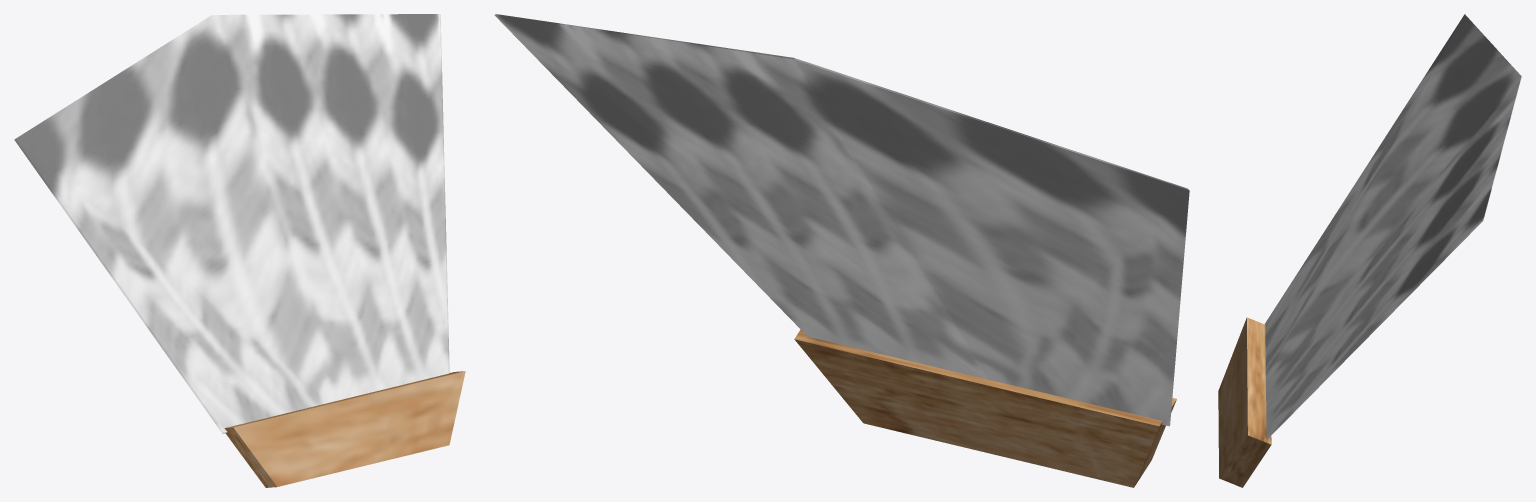
File: back_bahkab_2.dae
The picture shows the model from 3 angles, left to right: view 1: azimuth 30°, elevation 25°; view 2: azimuth 150°, elevation 25°; view 3: azimuth 270°, elevation 25°; orthographic projection. The views are drawn at different scales.
Parts seen in each view (by area): view 1: back_nobre_2; view 2: back_nobre_2; view 3: back_nobre_2.
Part boxes in pixels (<box>): back_nobre_2: <box>14,14,465,487</box>; back_nobre_2: <box>494,14,1189,487</box>; back_nobre_2: <box>1218,14,1521,487</box>.
Bounding box in the file's own units: 1.38 × 0.8044 × 1.07.
